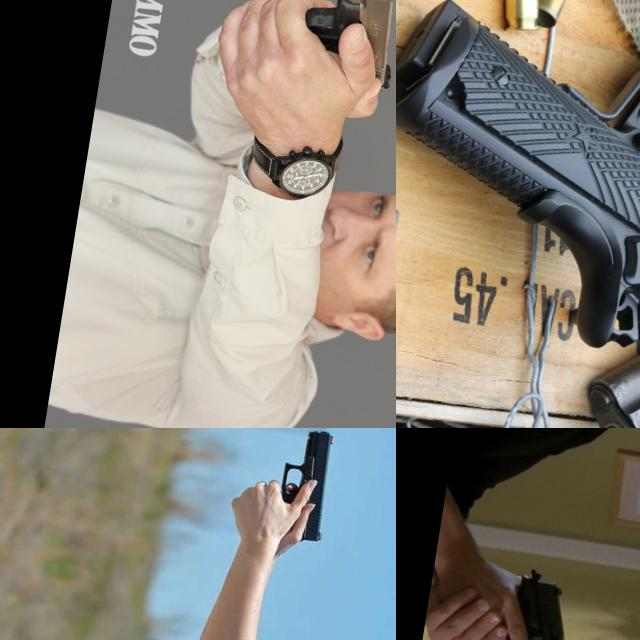handgun: (396, 0, 640, 376), (291, 0, 396, 94), (270, 428, 340, 547), (489, 565, 599, 640)
